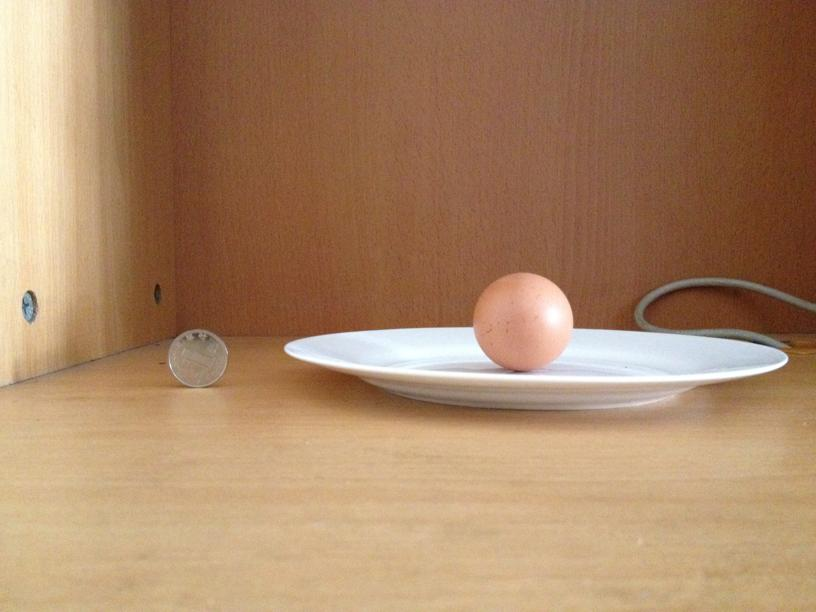coin: (170, 327, 228, 387)
egg: (471, 271, 574, 371)
